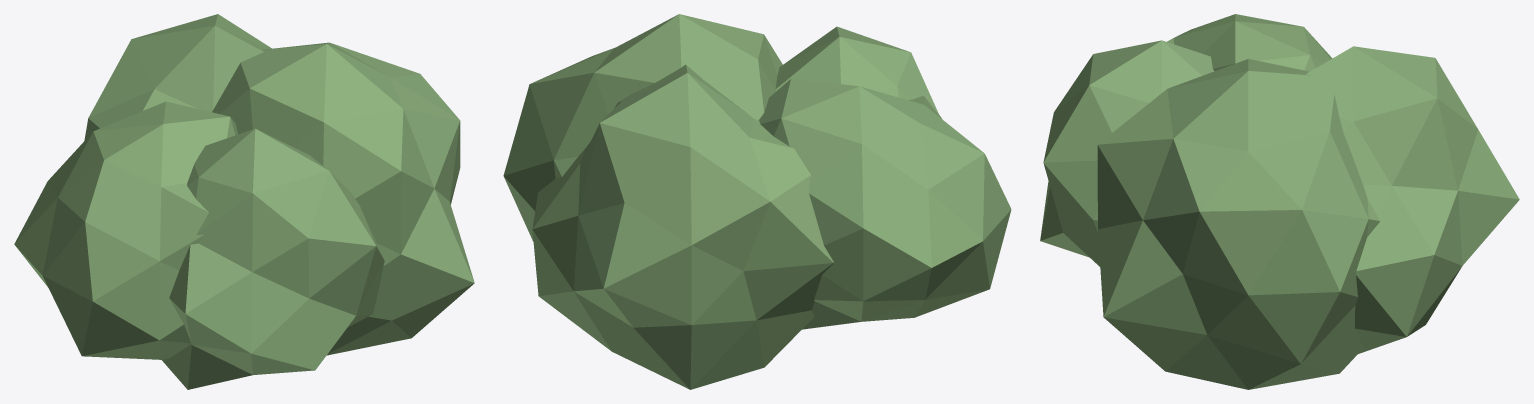
Rendered from plant_bush_1.glb.
3 views of the same model, side by side, from view 1: azimuth 30°, elevation 25°; view 2: azimuth 150°, elevation 25°; view 3: azimuth 270°, elevation 25° (orthographic). The views are drawn at different scales.
Parts seen in each view (by area): view 1: plant_bush_1; view 2: plant_bush_1; view 3: plant_bush_1.
Boxes of the visible parts, x1,y1,x2,y2 form: plant_bush_1: [14, 14, 474, 389]; plant_bush_1: [503, 14, 1011, 389]; plant_bush_1: [1040, 14, 1519, 389].
Size of the model in its own units: 1.77 by 1.1 by 1.71.
